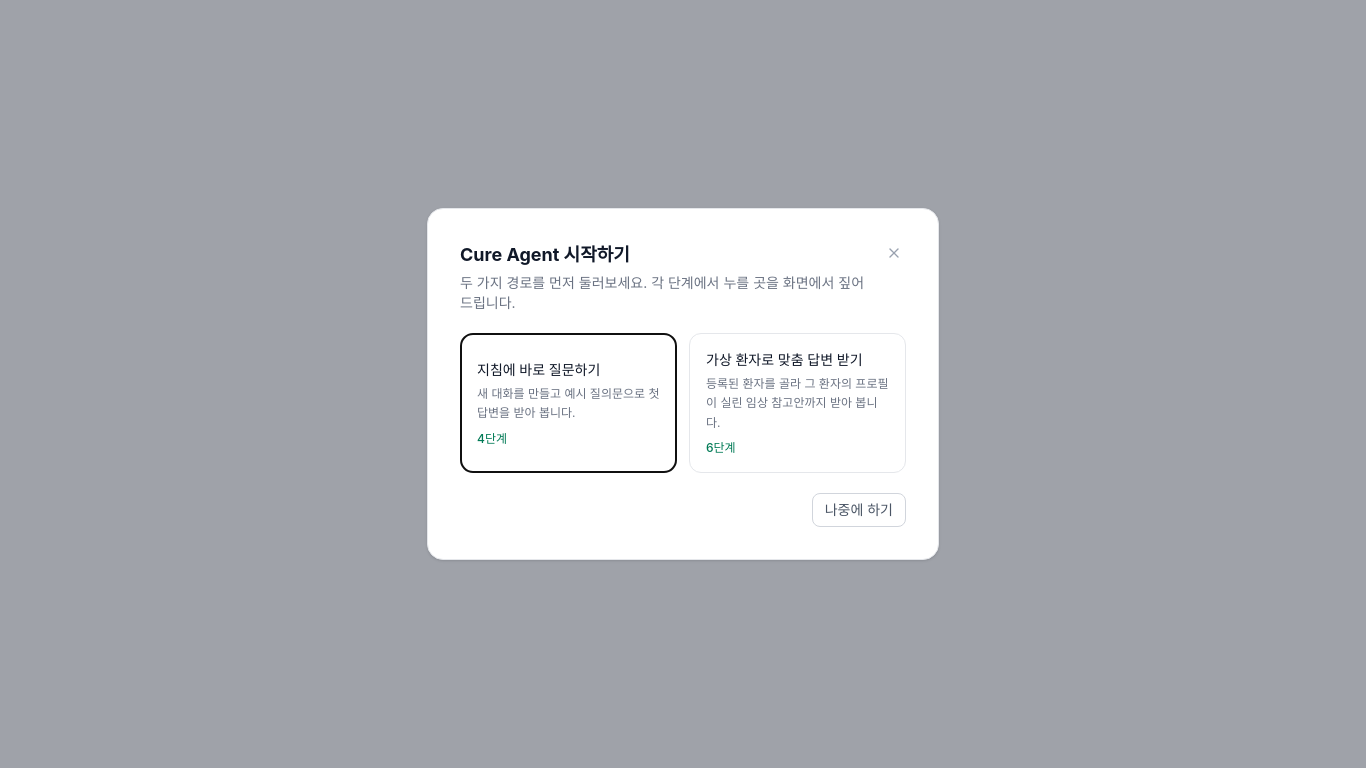
it: OnboardingTour › 경로를 고르면 모달이 닫히고 첫 단계를 안내한다
The width and height of the screenshot is (1366, 768).
Click the button "지침에 바로 질문하기 새 대화를 만들고 예시 질의문으로 첫 답변을 받아 봅니다. 4단계": (568, 403) x1=460 y1=333 x2=677 y2=473
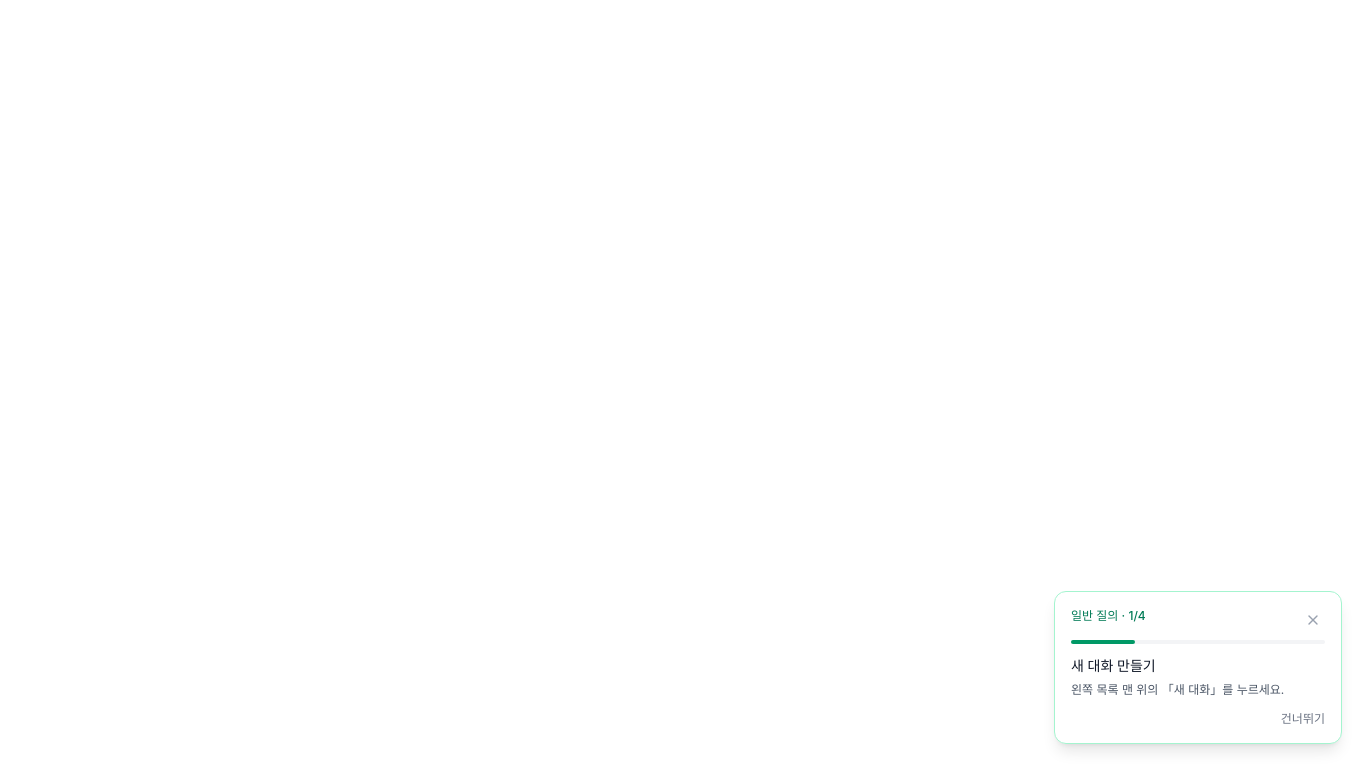
Result: the dialog is gone
Result: the text "새 대화 만들기" is shown at x1=1071 y1=656 x2=1156 y2=674
Result: the text "일반 질의 · 1/4" is shown at x1=1071 y1=608 x2=1146 y2=624
